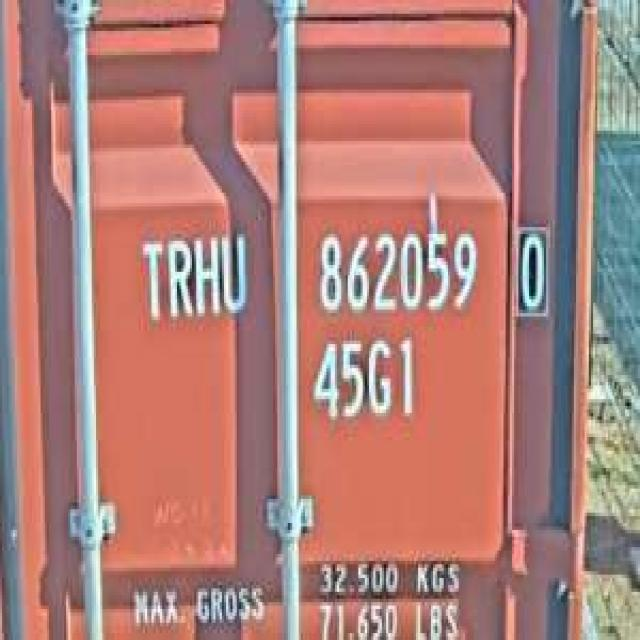dv: (510, 217, 552, 320)
owner: (134, 224, 252, 330)
serial: (312, 220, 484, 324)
size: (307, 330, 420, 430)
